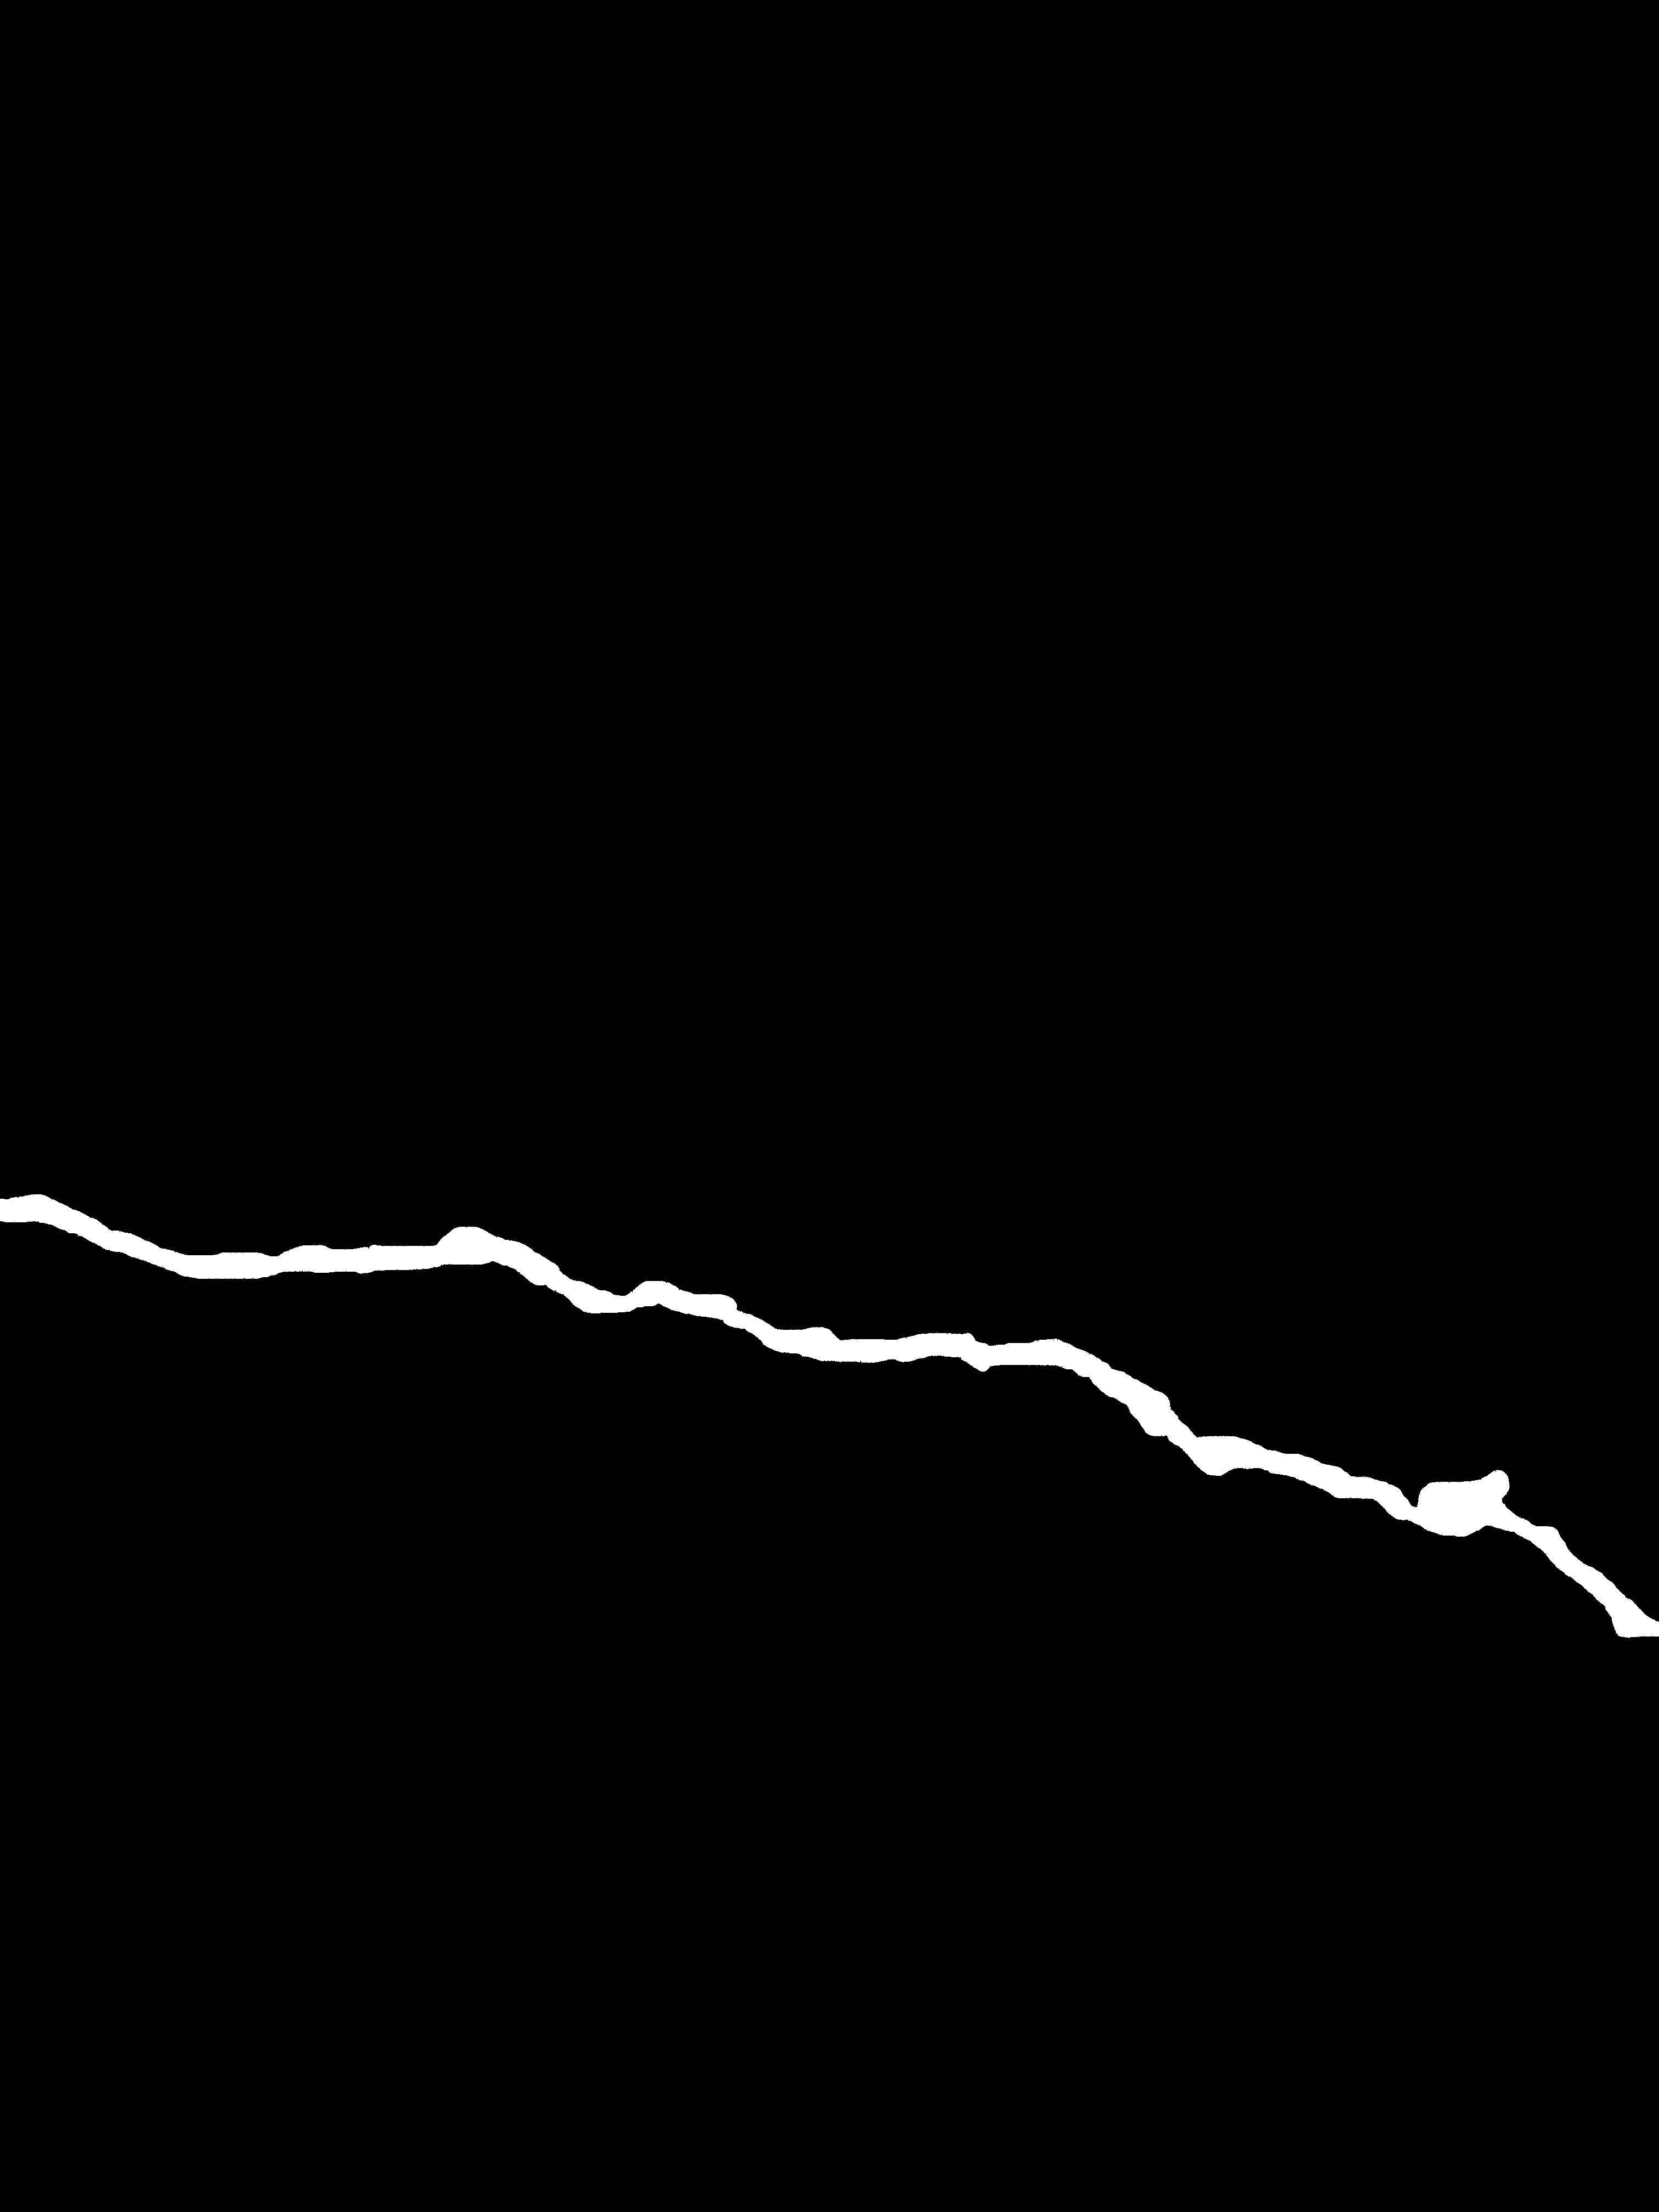Crack: (0, 1155, 1659, 1644)
